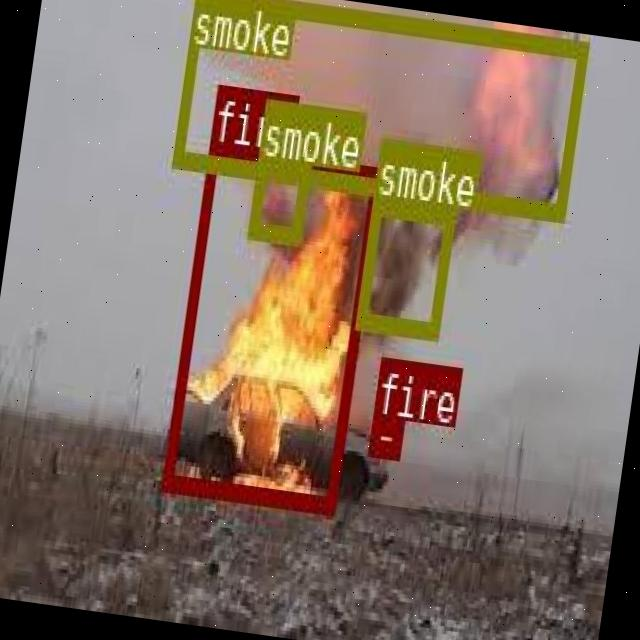fire: (161, 142, 382, 512), (368, 414, 403, 456)
smoke: (171, 0, 587, 219), (355, 194, 454, 334), (246, 156, 310, 244)
